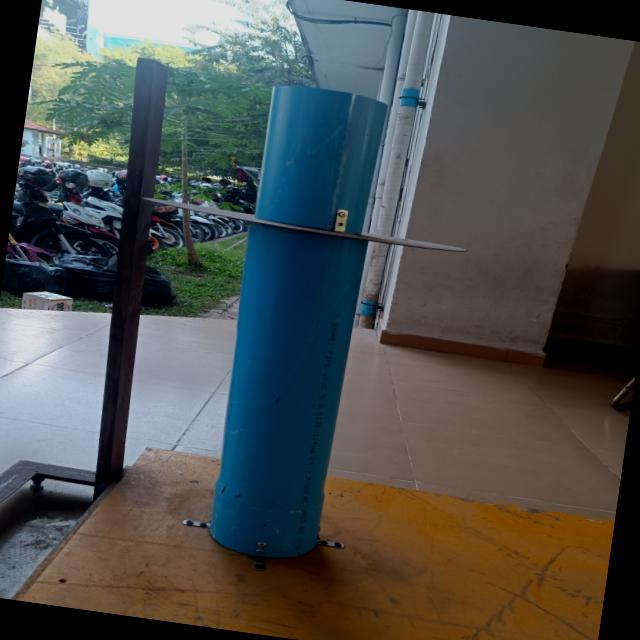pole: (118, 49, 508, 418)
